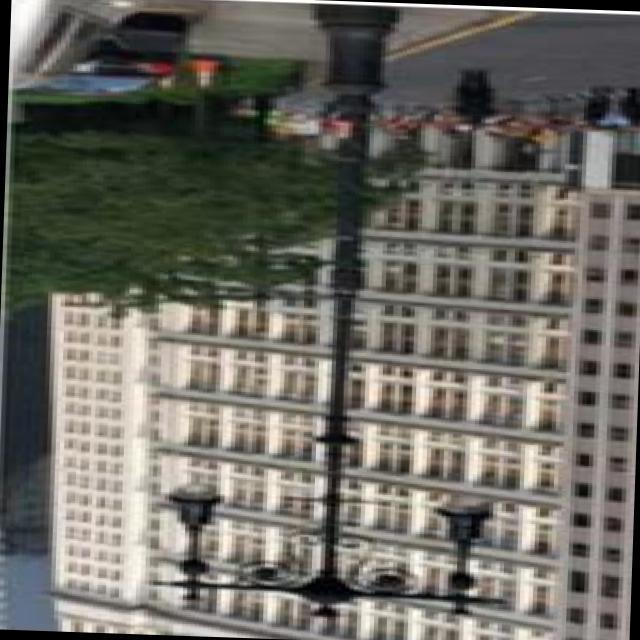off: (400, 476, 524, 614), (160, 450, 258, 592)
